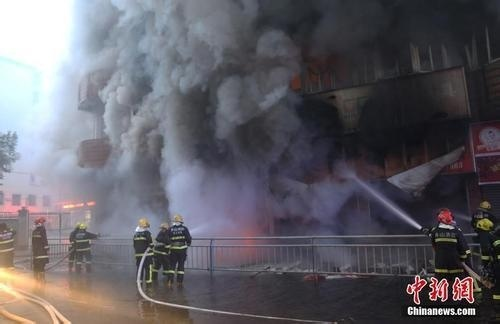fire: (61, 197, 94, 208)
